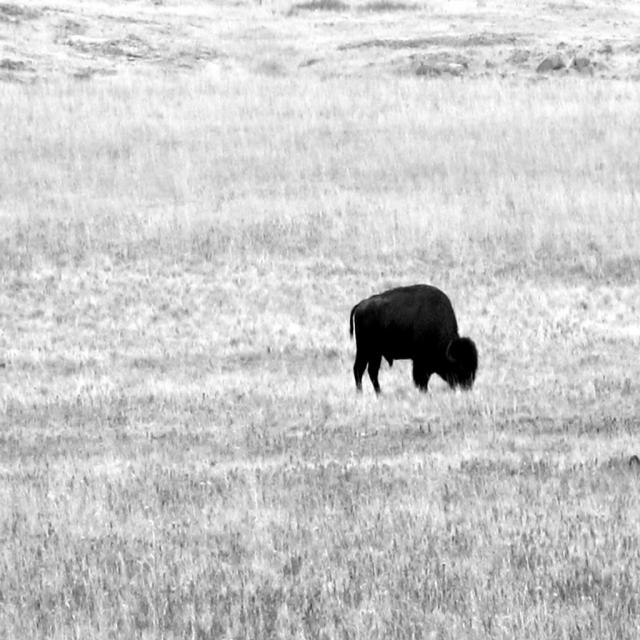Bull: (349, 282, 479, 400)
